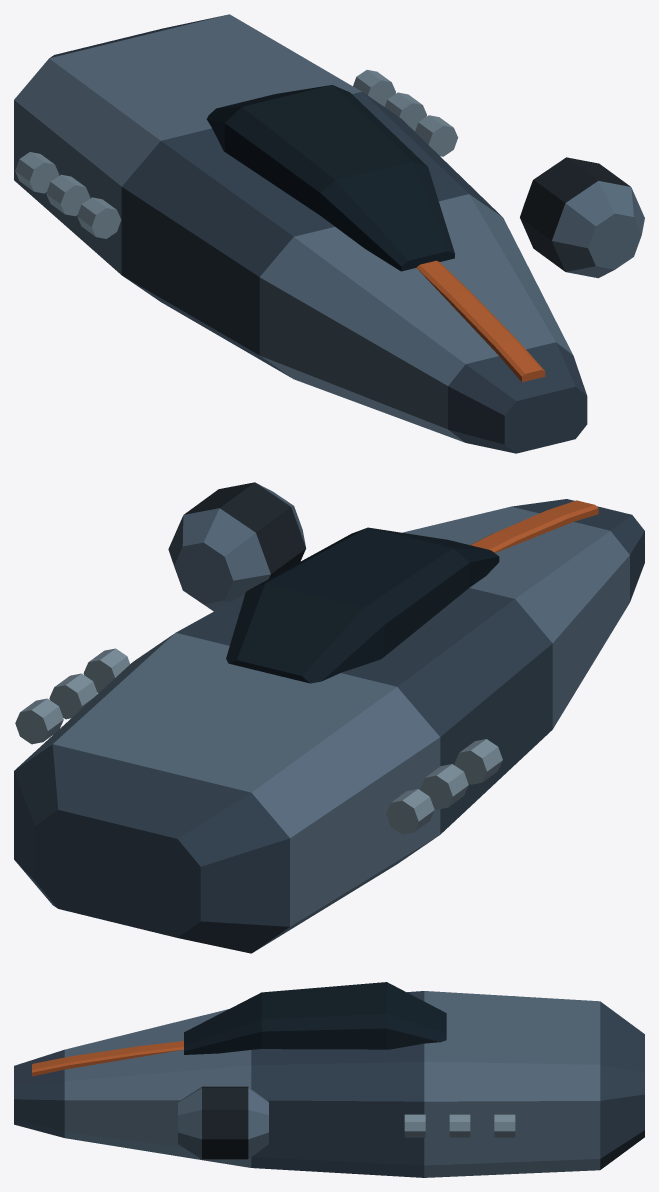
The model's file is FangBodyExposed.obj.
3 renders of one model, top to bottom at view 1: azimuth 30°, elevation 25°; view 2: azimuth 150°, elevation 25°; view 3: azimuth 270°, elevation 25°, orthographic. The views are drawn at different scales.
Parts seen in each view (by area): view 1: fuselage, canopy, starboard_cannon_housing, copper_spine, port_hinge, starboard_hinge; view 2: fuselage, canopy, starboard_cannon_housing, port_hinge, starboard_hinge, copper_spine; view 3: fuselage, canopy, starboard_cannon_housing, copper_spine, starboard_hinge.
Part boxes in pixels (x1,y1,x2,y2): fuselage: [14, 14, 587, 453]; canopy: [206, 85, 454, 271]; starboard_cannon_housing: [520, 157, 644, 278]; copper_spine: [416, 260, 545, 382]; port_hinge: [15, 152, 121, 238]; starboard_hinge: [353, 70, 458, 156]; fuselage: [14, 499, 644, 953]; canopy: [226, 527, 499, 683]; starboard_cannon_housing: [168, 482, 306, 611]; port_hinge: [386, 739, 502, 834]; starboard_hinge: [15, 648, 129, 744]; copper_spine: [470, 500, 598, 552]; fuselage: [14, 991, 644, 1177]; canopy: [184, 982, 446, 1054]; starboard_cannon_housing: [178, 1086, 268, 1159]; copper_spine: [32, 1041, 183, 1076]; starboard_hinge: [404, 1114, 515, 1137].
Bounding box in the file's own units: 2.3 × 1.07 × 4.23.
